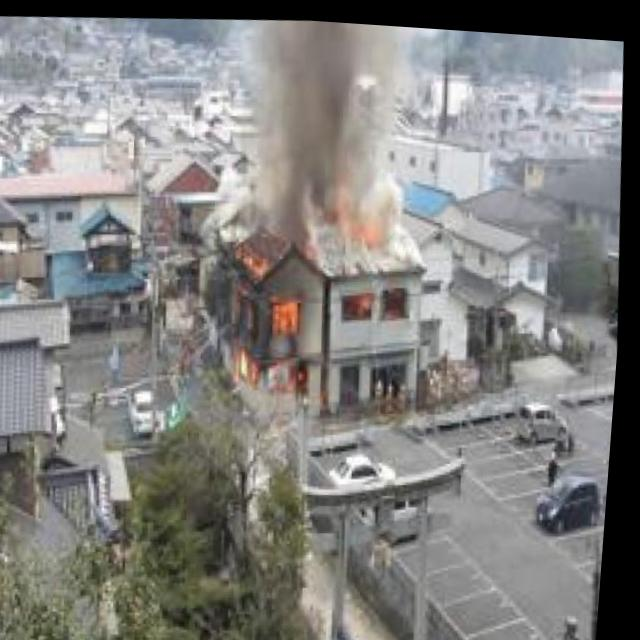Fire: (220, 240, 315, 400), (341, 285, 381, 319)
